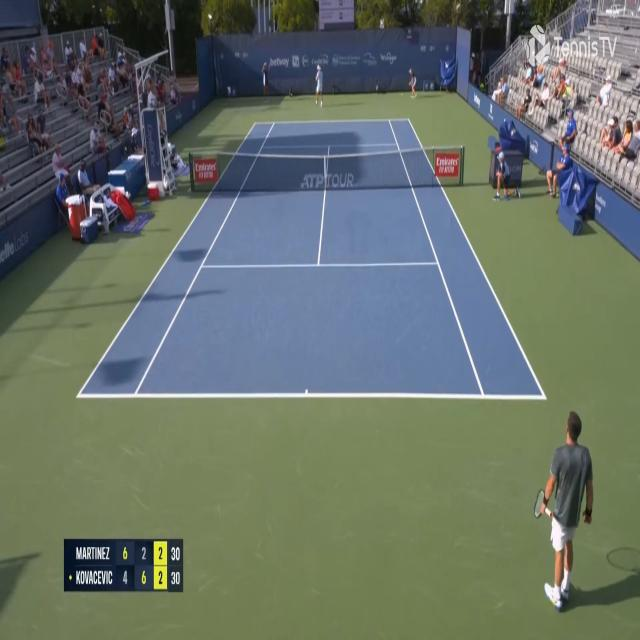tennis-player: (532, 405, 595, 612), (314, 65, 324, 109)
